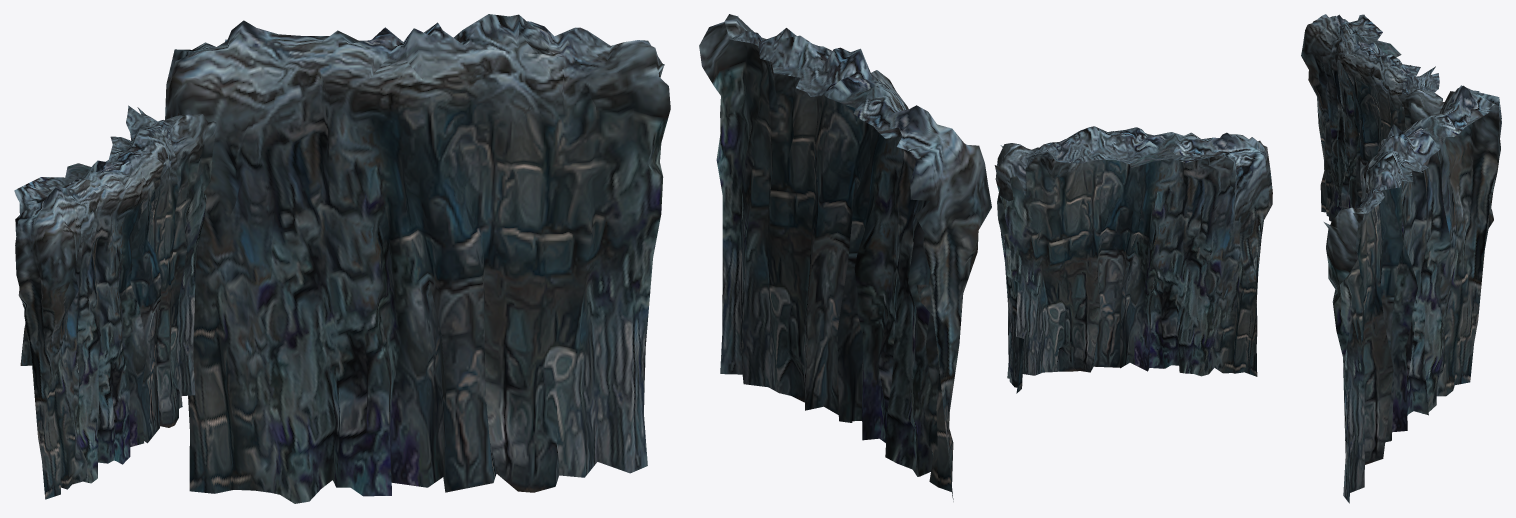
Rendered from Maincity_Mountain3.FBX.
3 renders of one model, left to right at view 1: azimuth 30°, elevation 25°; view 2: azimuth 150°, elevation 25°; view 3: azimuth 270°, elevation 25°, orthographic. The views are drawn at different scales.
Parts seen in each view (by area): view 1: default010, default004; view 2: default010, default004; view 3: default010, default004.
Part boxes in pixels (x1,y1,x2,y2): default010: [165, 14, 670, 503]; default004: [14, 105, 216, 499]; default010: [699, 14, 991, 501]; default004: [994, 126, 1272, 393]; default010: [1324, 85, 1501, 503]; default004: [1301, 14, 1444, 221].
Bounding box in the file's own units: 77556 × 52538 × 29957.
